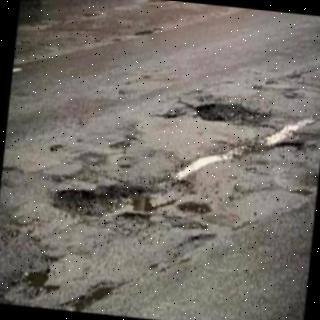pothole: (53, 185, 175, 215), (195, 103, 272, 127)
